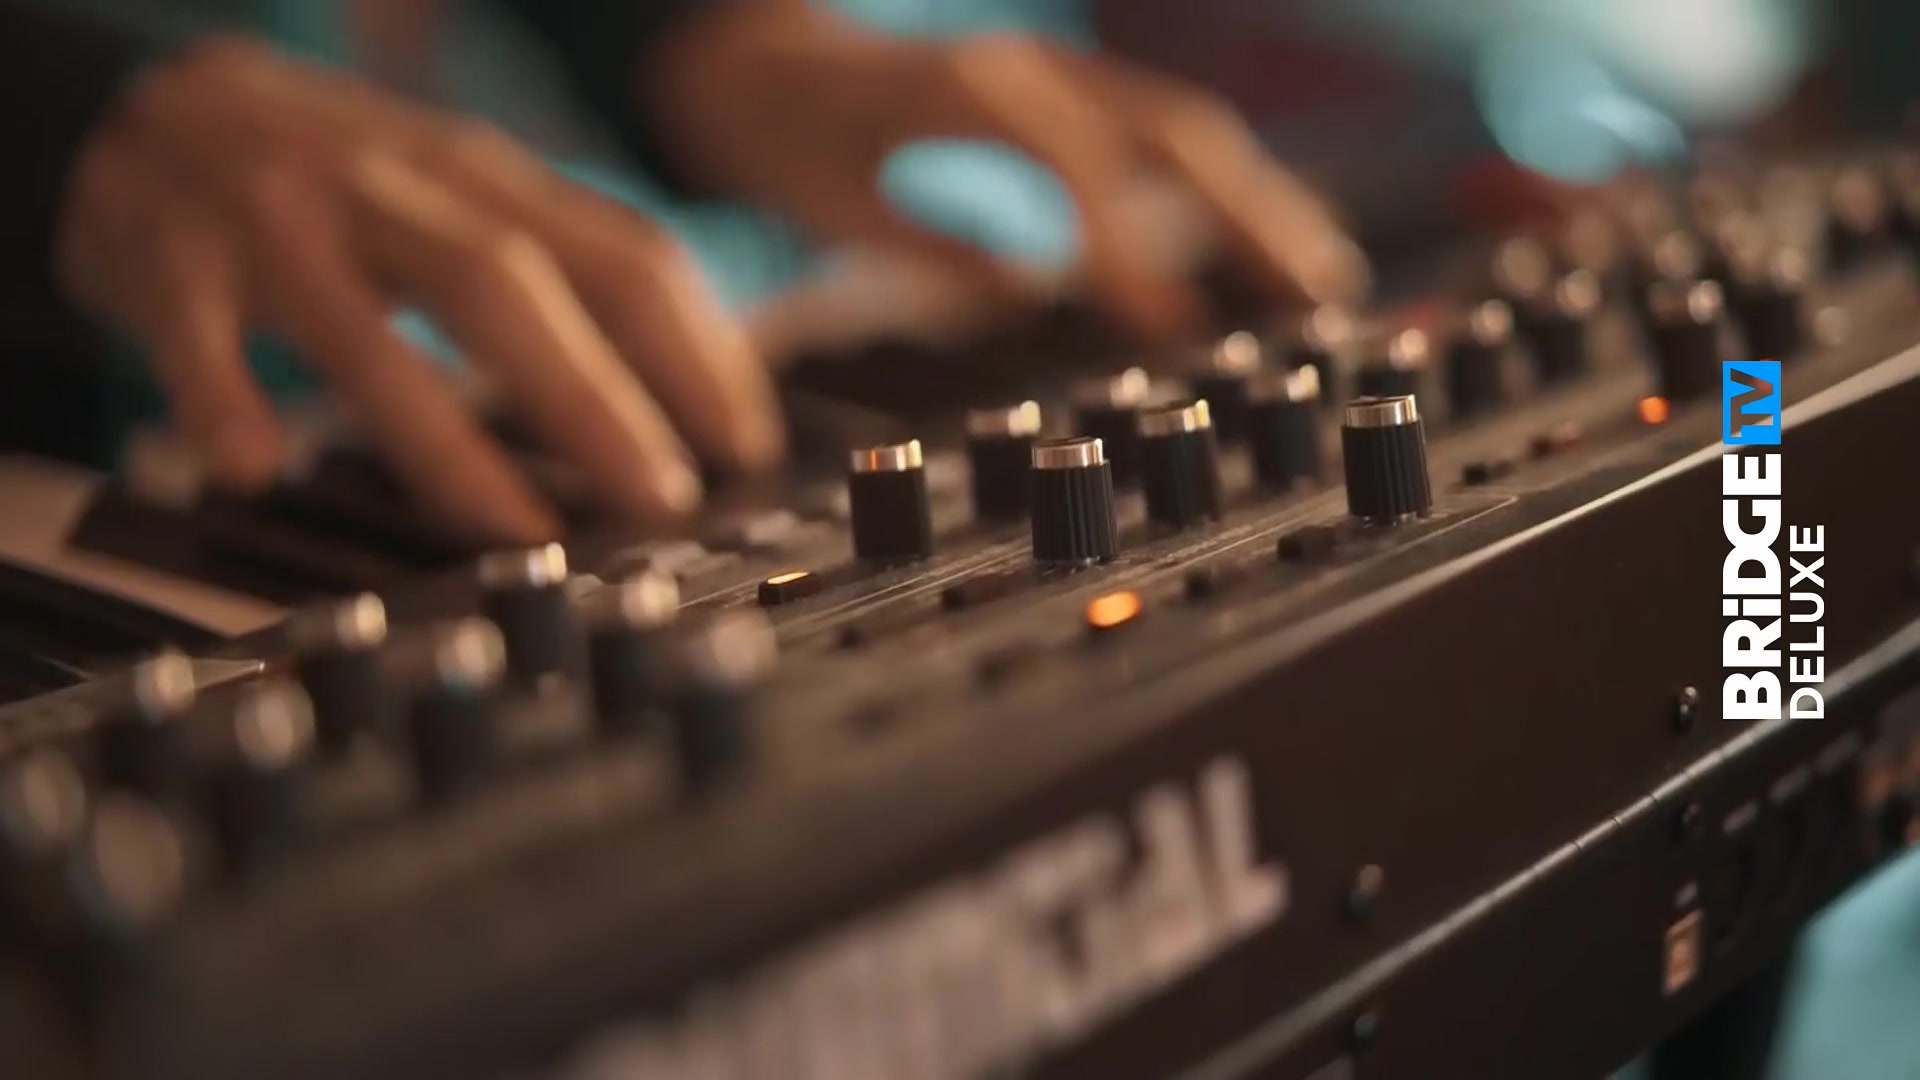Bridge_TV_Deluxe: (1716, 349, 1829, 731)
